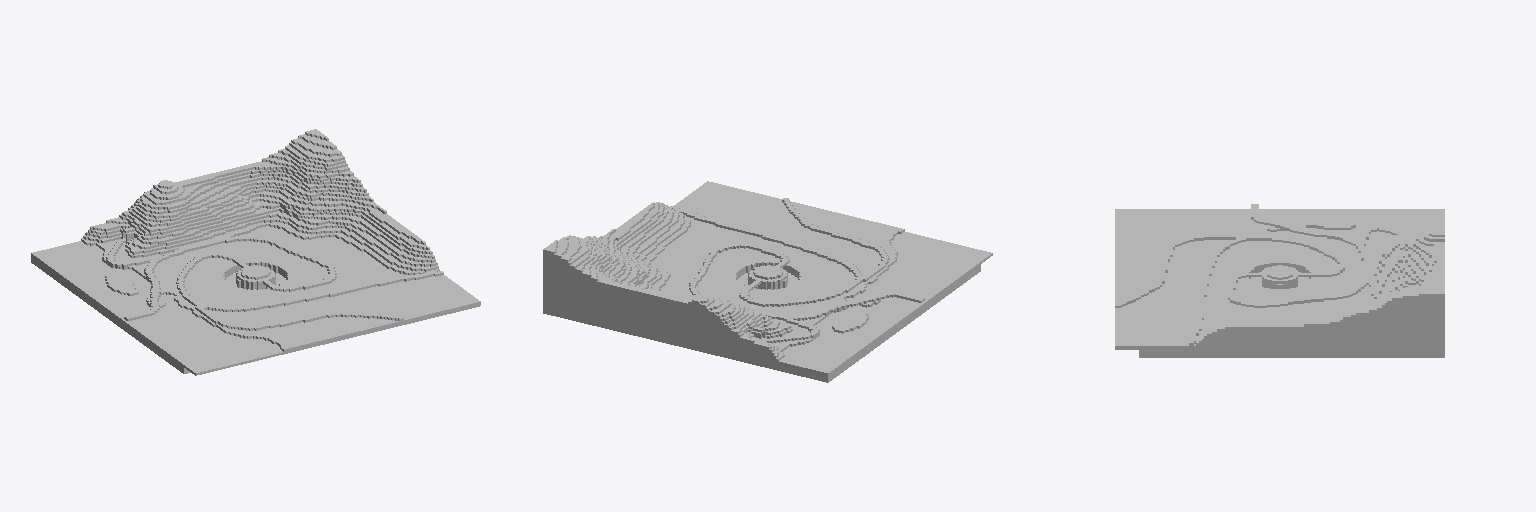
Rendered from map extension.obj.
3 renders of one model, left to right at view 1: azimuth 30°, elevation 25°; view 2: azimuth 150°, elevation 25°; view 3: azimuth 270°, elevation 25°, orthographic.
Parts seen in each view (by area): view 1: object 1; view 2: object 1; view 3: object 1.
Part boxes in pixels (bbox=[...]): object 1: bbox=[31, 129, 480, 375]; object 1: bbox=[543, 181, 992, 382]; object 1: bbox=[1115, 204, 1444, 357].
Size of the model in its own units: 12.6 by 2.7 by 12.6.